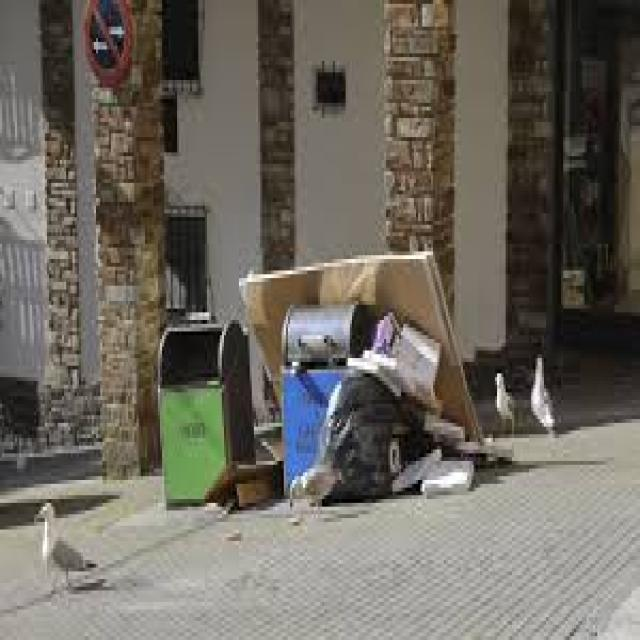garbage: (136, 248, 487, 514)
